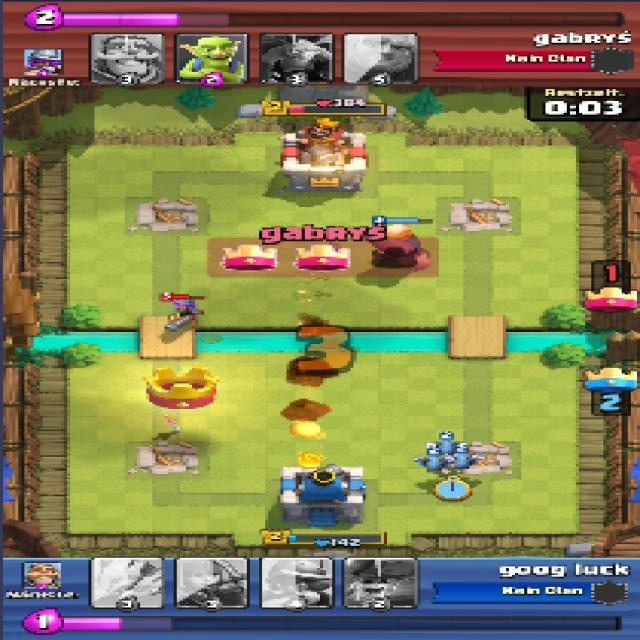Enemy-Fireball: (292, 420, 328, 468)
Enemy-Musketeer: (164, 294, 205, 332)
Player-Giant: (362, 220, 431, 268)
Player-Minion: (449, 450, 475, 470), (436, 436, 458, 456), (424, 454, 444, 471)
